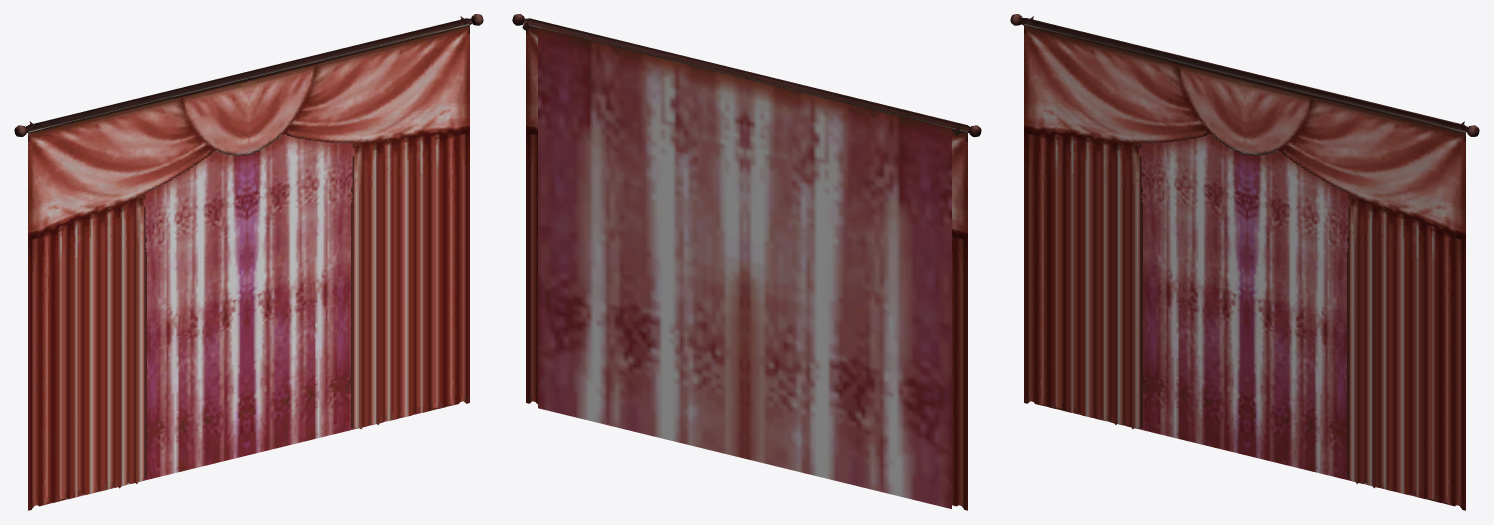
The model's file is furni_0201137_02.FBX.
The picture shows the model from 3 angles, left to right: view 1: azimuth 30°, elevation 25°; view 2: azimuth 150°, elevation 25°; view 3: azimuth 330°, elevation 25°; orthographic projection.
Visible parts, largest first — view 1: furni_0201137_02; view 2: furni_0201137_02; view 3: furni_0201137_02.
Part boxes in pixels (<box>): furni_0201137_02: <box>14,14,483,510</box>; furni_0201137_02: <box>512,14,981,510</box>; furni_0201137_02: <box>1010,14,1479,510</box>.
Bounding box in the file's own units: 353 × 279 × 12.24.
2 materials, 2 textured.
